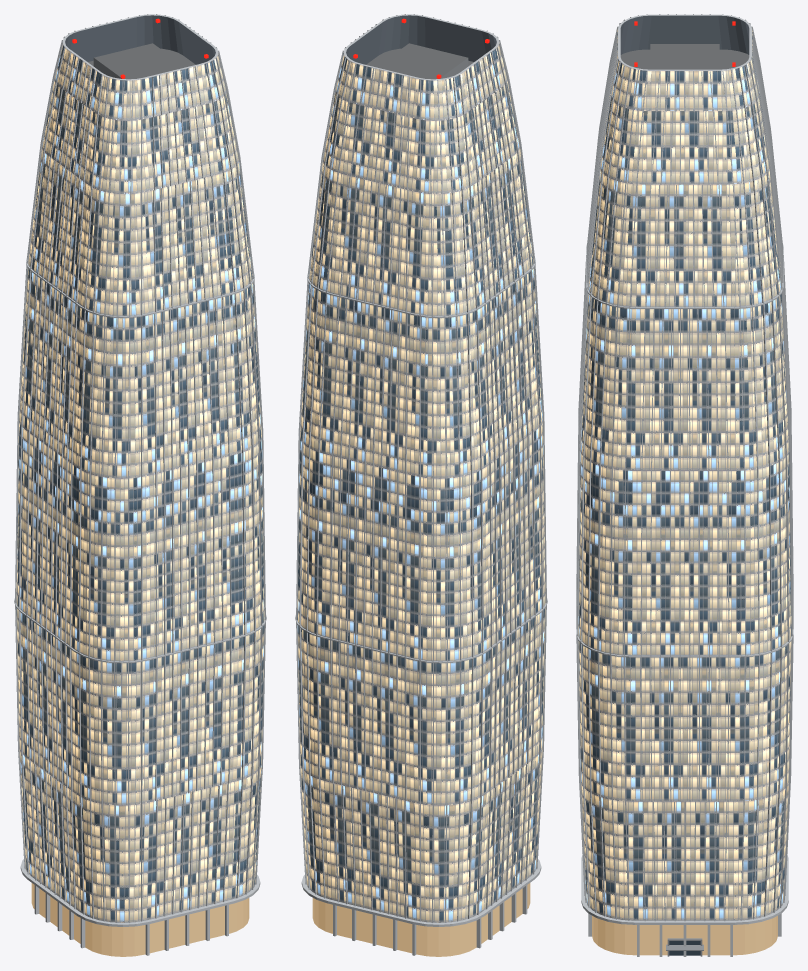
The model's file is azabudai_hills_mori_jp_tower.glb.
3 renders of one model, left to right at view 1: azimuth 30°, elevation 25°; view 2: azimuth 150°, elevation 25°; view 3: azimuth 270°, elevation 25°, orthographic.
Parts seen in each view (by area): view 1: azabudai_hills_mori_jp_tower; view 2: azabudai_hills_mori_jp_tower; view 3: azabudai_hills_mori_jp_tower.
Part boxes in pixels (x1=…): azabudai_hills_mori_jp_tower: x1=14, y1=14, x2=266, y2=956; azabudai_hills_mori_jp_tower: x1=295, y1=14, x2=547, y2=956; azabudai_hills_mori_jp_tower: x1=576, y1=14, x2=793, y2=956.
Size of the model in its own units: 74 by 330 by 74.5.
2 materials, 2 textured.
